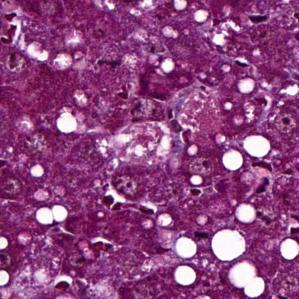ballooning: (98, 117, 178, 170)
